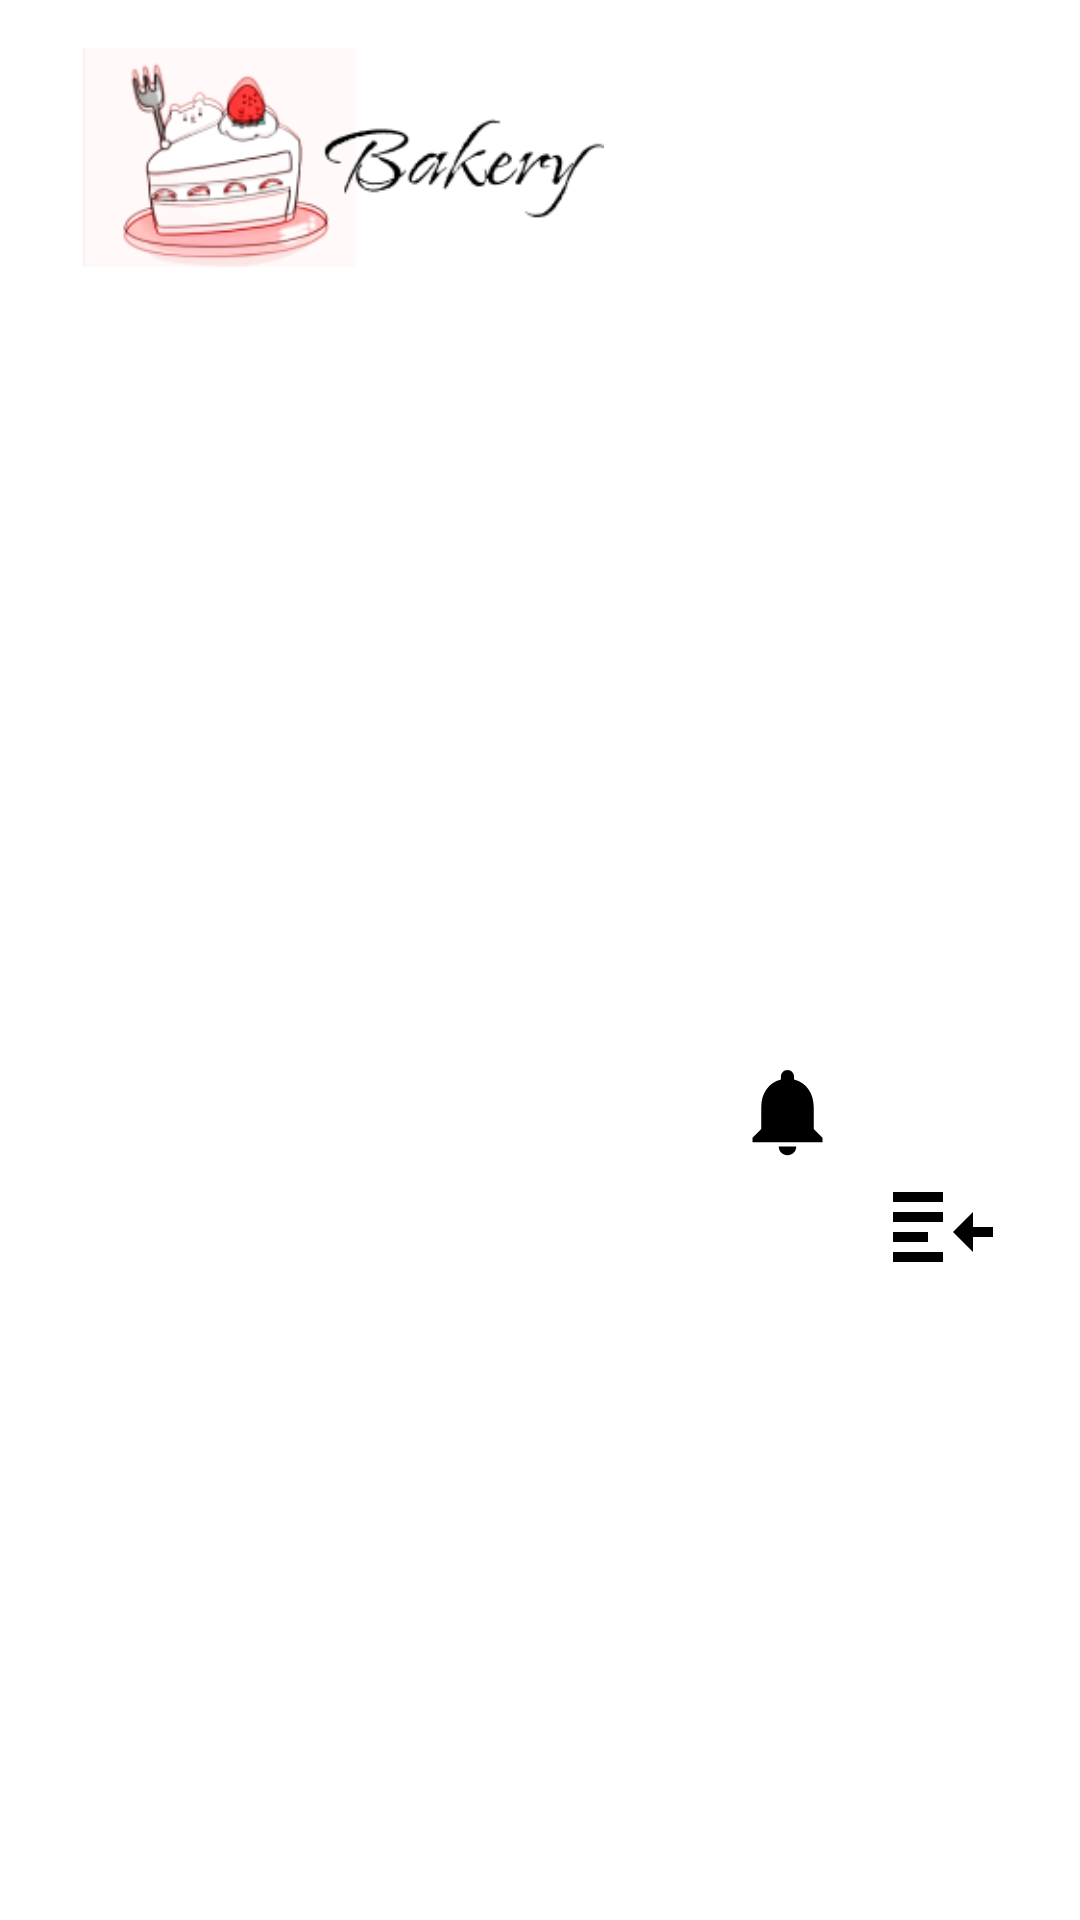

Screen size 1080w x 1920h. Icon name, then its center in pixels as point (x, y):
notifications: point (787, 1113)
